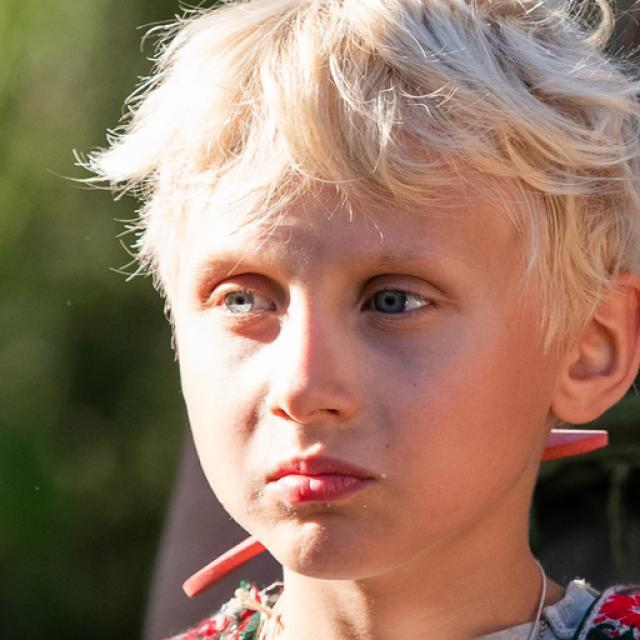sad: (172, 81, 556, 584)
